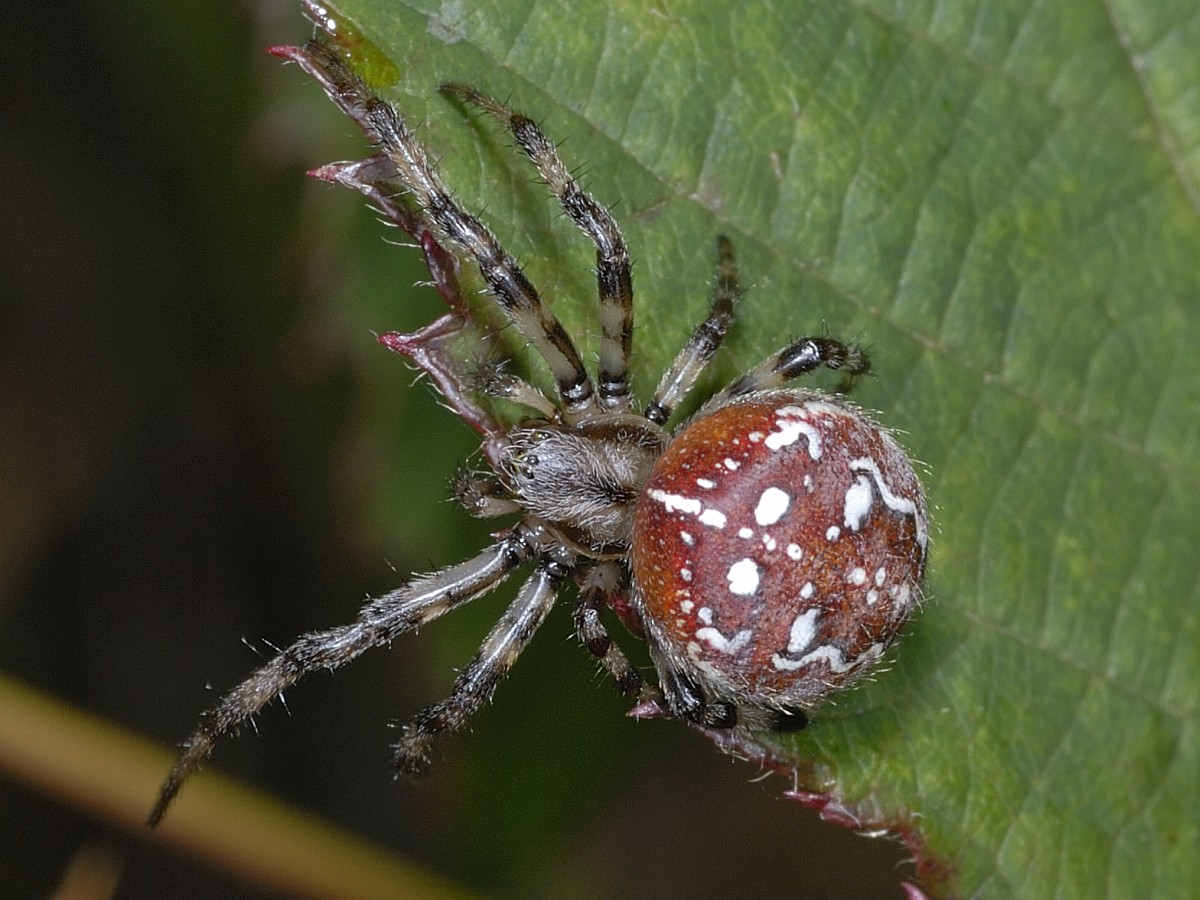spider: (111, 28, 960, 851)
